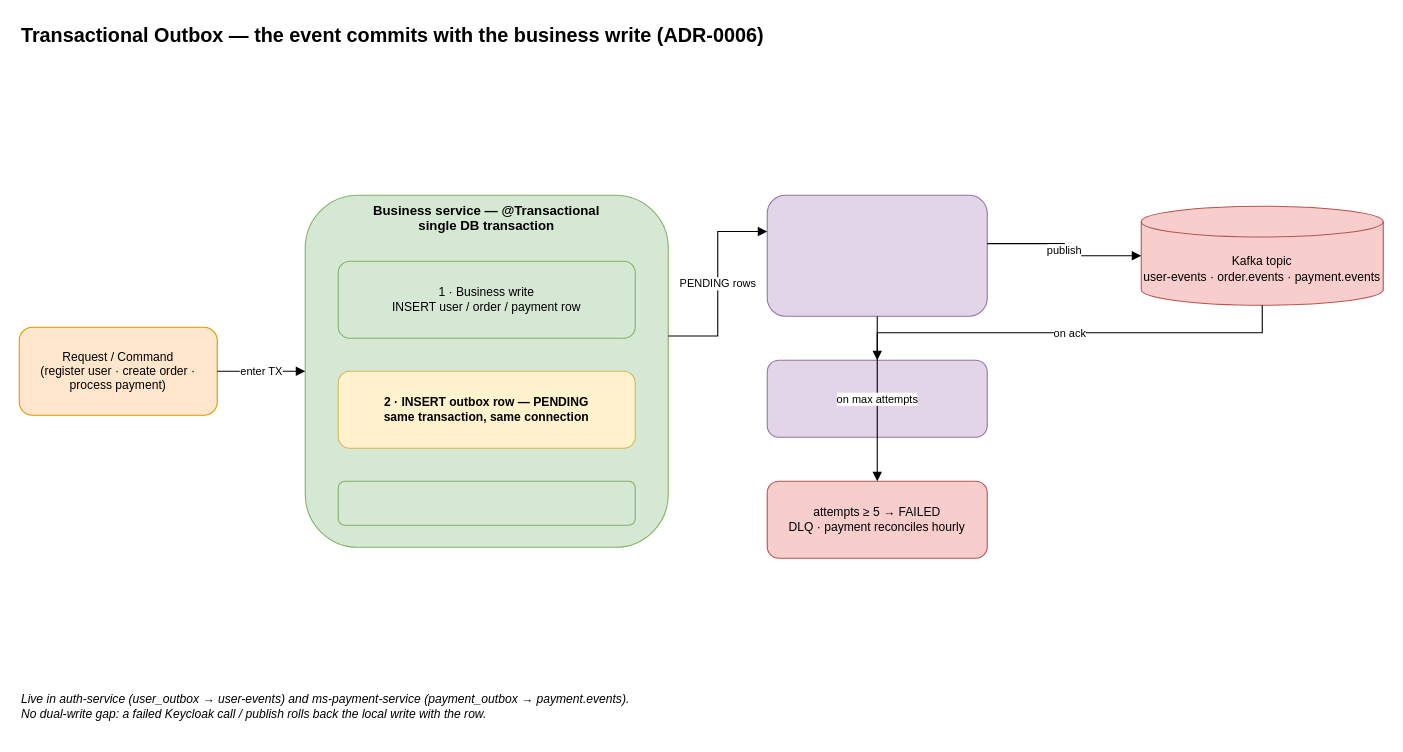
This 1403x752 diagram has some shape labels left out. The shapes that lost their labels are listed below. From the top down, each one's box as (x1, y1, x2, y2) in pixels, then its label:
(766, 194, 987, 316): Outbox relay poll PENDING rows (500 ms) exponential backoff 1s → 5m
(766, 359, 987, 437): mark PUBLISHED + published_at — only after broker ack
(337, 480, 635, 525): COMMIT — atomic both rows survive together or neither does
